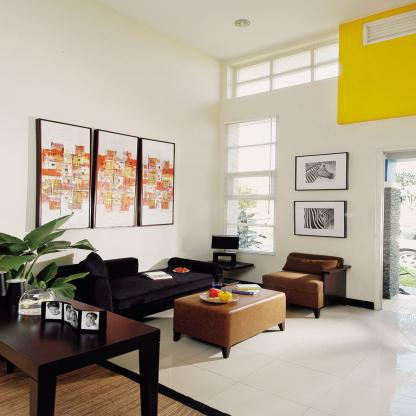kursi: (264, 250, 349, 318)
lukisan: (33, 117, 96, 234), (94, 128, 140, 235), (140, 140, 179, 230)
